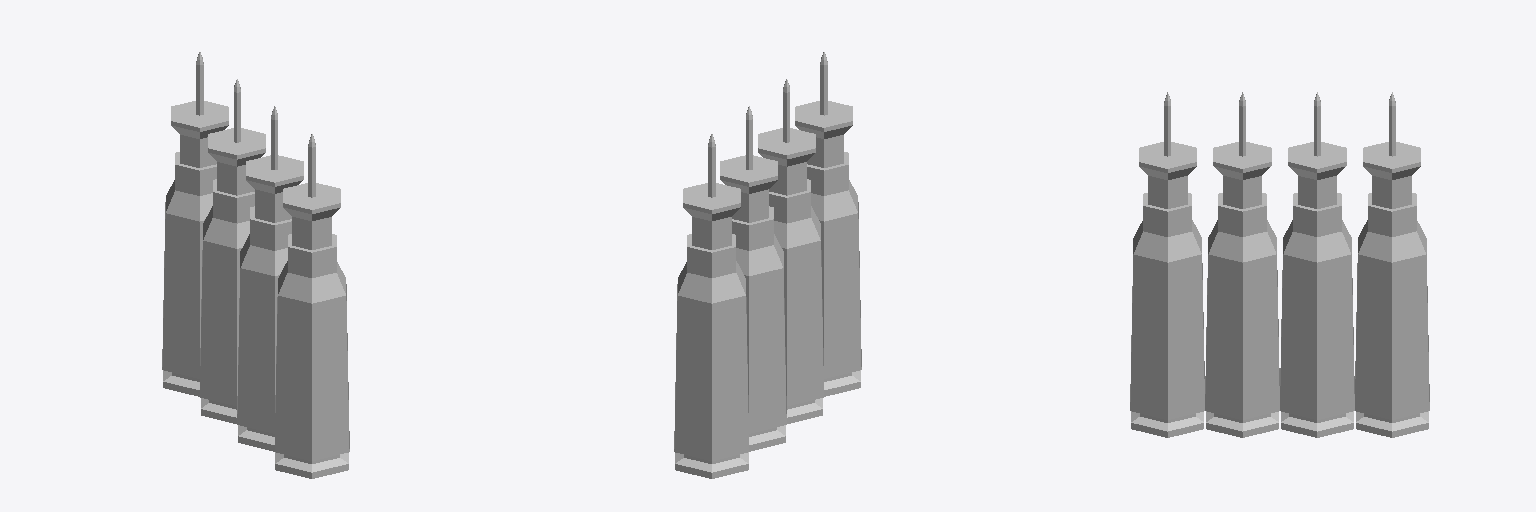
File: MainGunPickup.obj
The picture shows the model from 3 angles: view 1: azimuth 30°, elevation 25°; view 2: azimuth 150°, elevation 25°; view 3: azimuth 270°, elevation 25°; orthographic projection.
Parts seen in each view (by area): view 1: MainGunPickup_Plane.006; view 2: MainGunPickup_Plane.006; view 3: MainGunPickup_Plane.006.
Part boxes in pixels (left/top/right/bottom): MainGunPickup_Plane.006: left=162, top=52, right=349, bottom=478; MainGunPickup_Plane.006: left=674, top=52, right=861, bottom=478; MainGunPickup_Plane.006: left=1130, top=92, right=1429, bottom=437.
Bounding box in the file's own units: 0.1903 × 0.7983 × 0.6593.